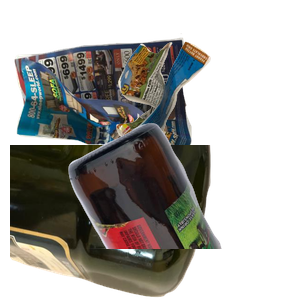glass: (66, 120, 300, 300)
paper: (12, 31, 196, 204)
plastic: (10, 145, 213, 300)
trash: (114, 39, 300, 188)
